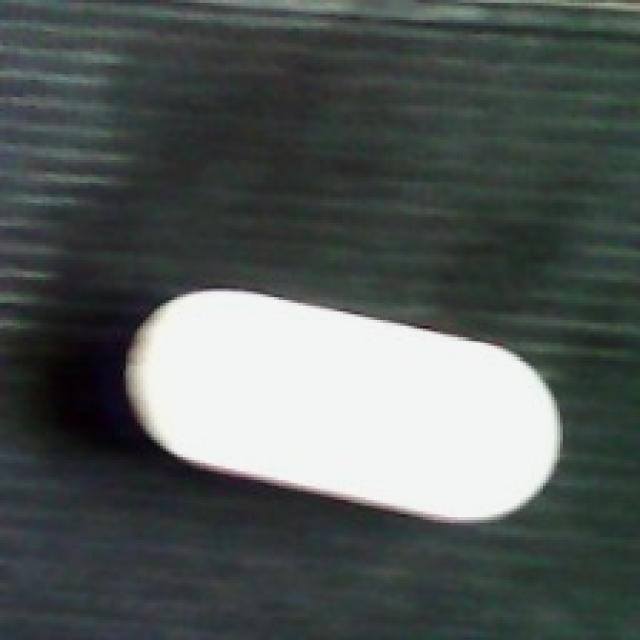no-defect: (123, 286, 571, 526)
